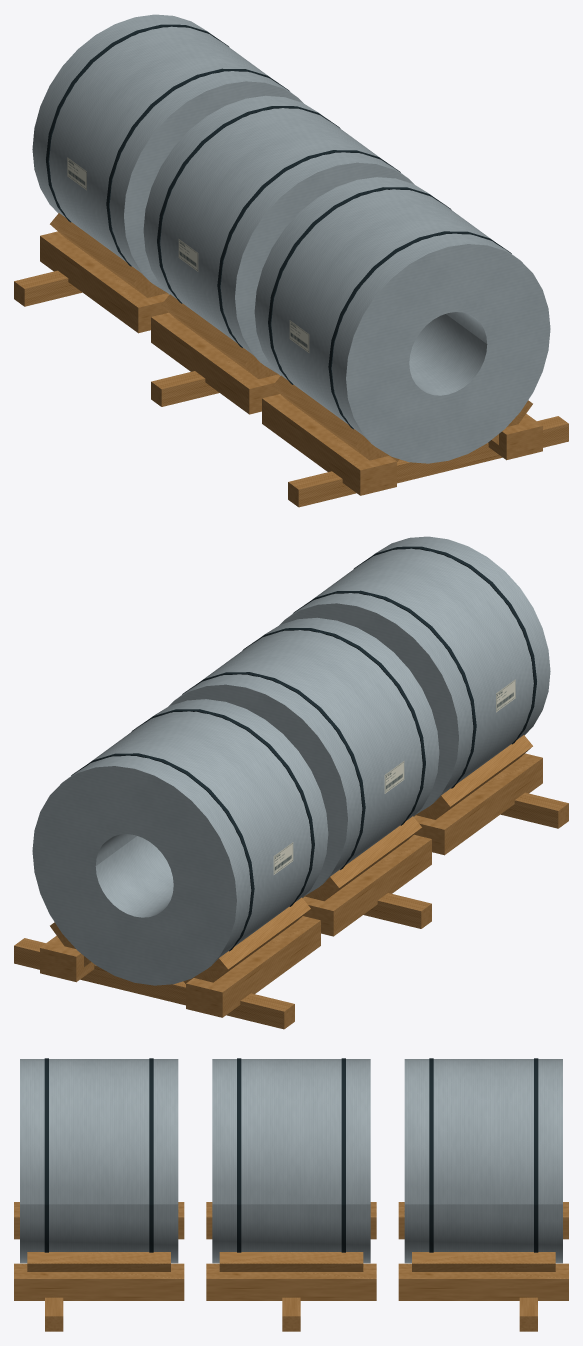
Rendered from steel_coils.glb.
The picture shows the model from 3 angles, top to bottom: view 1: azimuth 30°, elevation 25°; view 2: azimuth 150°, elevation 25°; view 3: azimuth 270°, elevation 25°; orthographic projection. The views are drawn at different scales.
Visible parts, largest first — view 1: Brushed rolled steel, Steel cut edges, Pine dunnage, Steel banding, Packing label; view 2: Brushed rolled steel, Steel cut edges, Pine dunnage, Steel banding, Packing label; view 3: Brushed rolled steel, Pine dunnage, Steel banding.
Boxes of the visible parts, bbox=[...] form: Brushed rolled steel: bbox=[32, 14, 519, 446]; Steel cut edges: bbox=[124, 81, 550, 463]; Pine dunnage: bbox=[14, 213, 568, 507]; Steel banding: bbox=[46, 24, 511, 429]; Packing label: bbox=[67, 157, 309, 352]; Brushed rolled steel: bbox=[63, 536, 550, 968]; Steel cut edges: bbox=[32, 603, 458, 985]; Pine dunnage: bbox=[14, 735, 568, 1029]; Steel banding: bbox=[71, 546, 536, 951]; Packing label: bbox=[273, 679, 515, 874]; Brushed rolled steel: bbox=[20, 1059, 562, 1263]; Pine dunnage: bbox=[14, 1202, 568, 1331]; Steel banding: bbox=[44, 1058, 538, 1252].
Bounding box in the file's own units: 2.22 × 1.87 × 4.56.
Materials: 5 (4 with a texture image).
